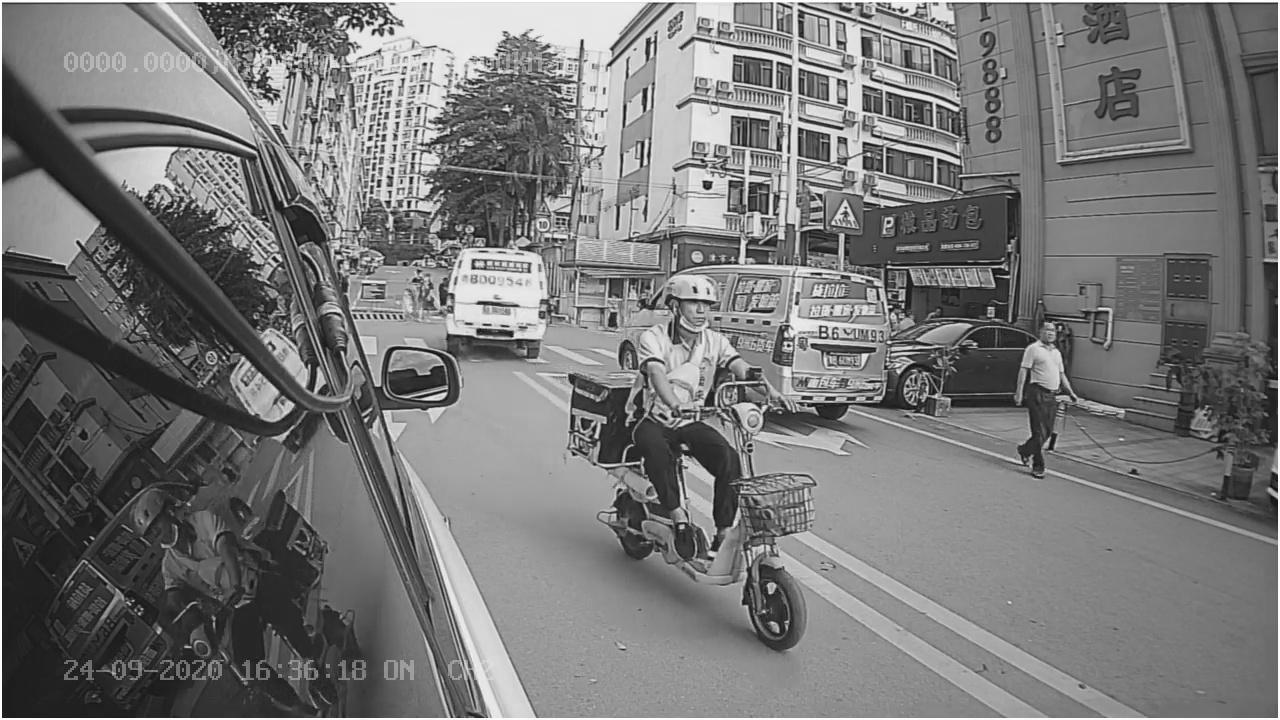person: (998, 307, 1083, 484)
